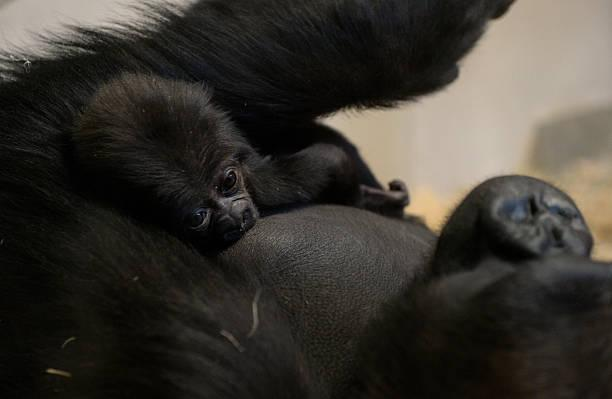gorille_Autres: (64, 67, 340, 308)
